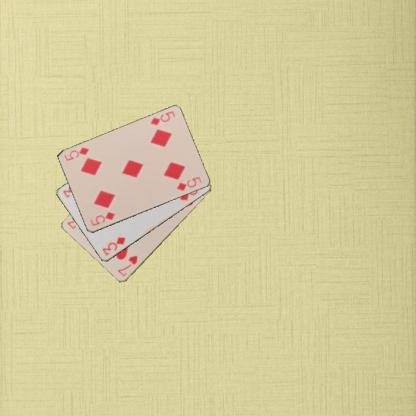3d: (98, 235, 127, 258)
5d: (88, 209, 116, 227), (148, 109, 176, 127)
7h: (115, 253, 139, 278)
